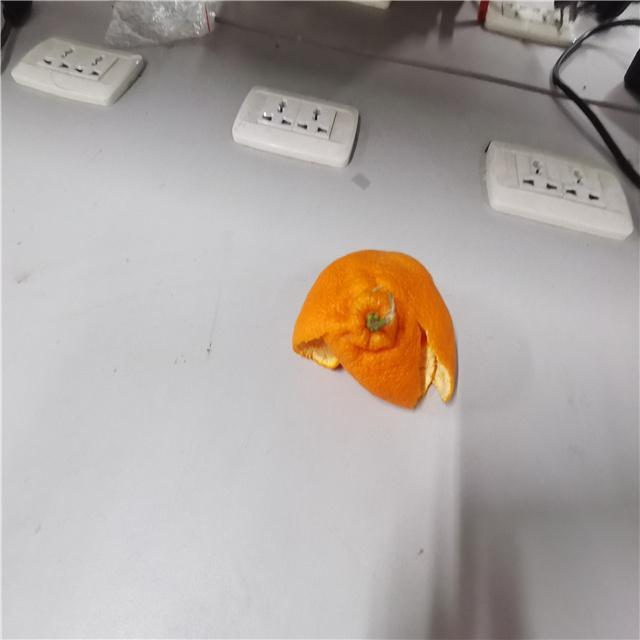orange-peel: (295, 248, 466, 411)
